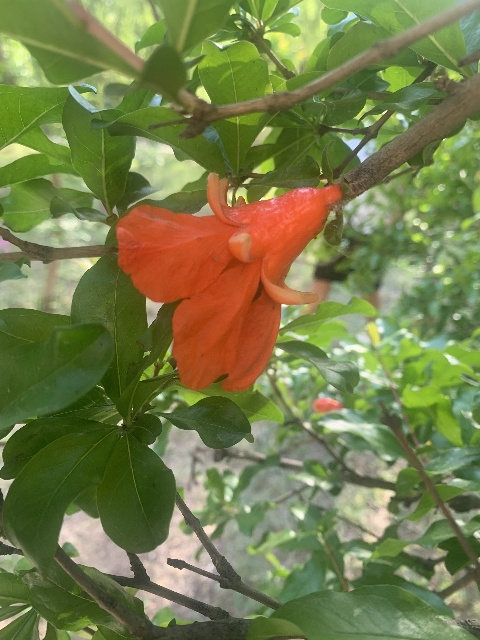bud: (312, 398, 342, 413)
flower: (113, 172, 341, 393)
